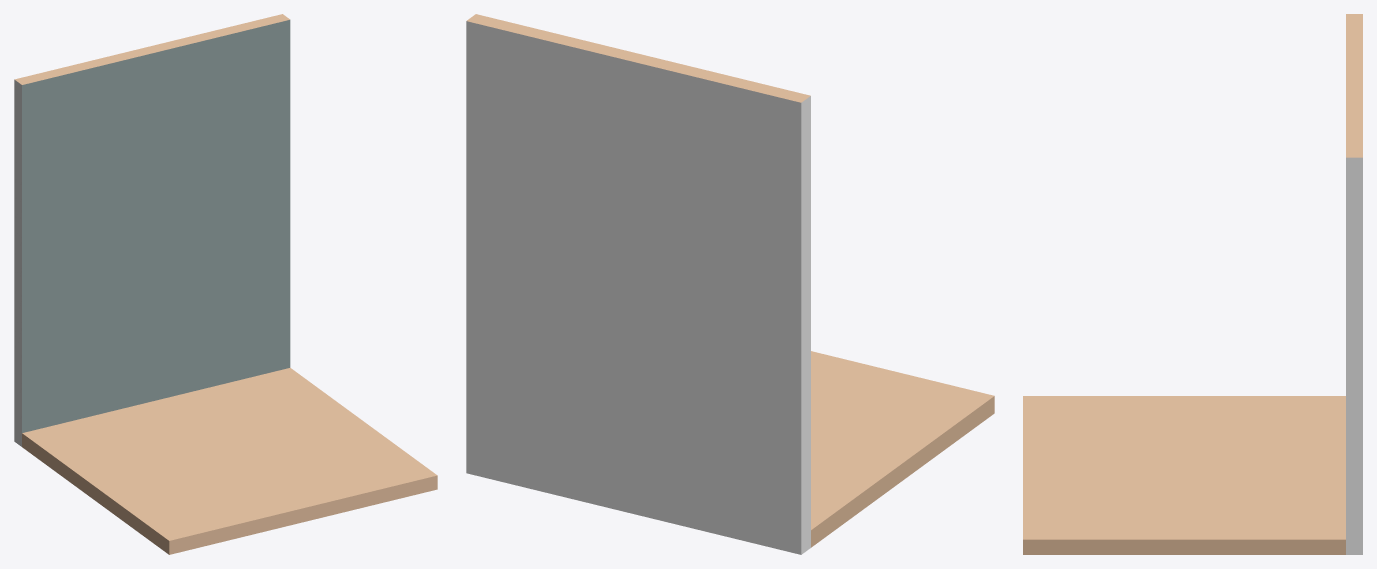
File: wall.fbx
3 views of the same model, side by side, from view 1: azimuth 30°, elevation 25°; view 2: azimuth 150°, elevation 25°; view 3: azimuth 270°, elevation 25° (orthographic). The views are drawn at different scales.
Parts seen in each view (by area): view 1: wall; view 2: wall; view 3: wall.
Part boxes in pixels (x1,y1,x2,y2): wall: (14,14,437,554); wall: (466,14,994,554); wall: (1023,14,1362,554).
Size of the model in its own units: 100 by 100 by 129.
